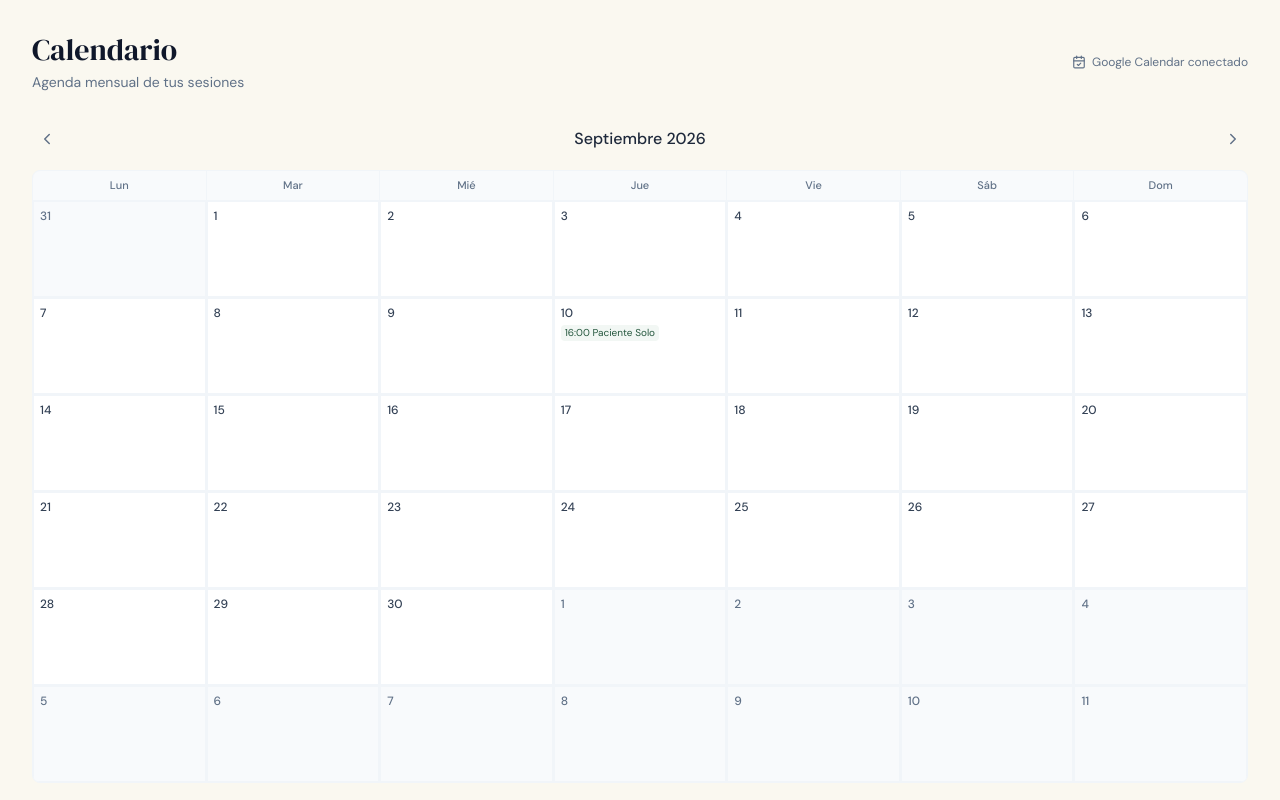
CalendarPage › al cambiar de mes conserva la grilla sin "Cargando calendario..." y bloquea el detalle del día hasta que llegan los datos
This screenshot has width=1280, height=800.
Check: the button with test id "day-cell-2026-09-10" is shown, box [554,298,726,394]
Click the button named "Mes siguiente".
click(1233, 139)  # box [1218,124,1248,154]
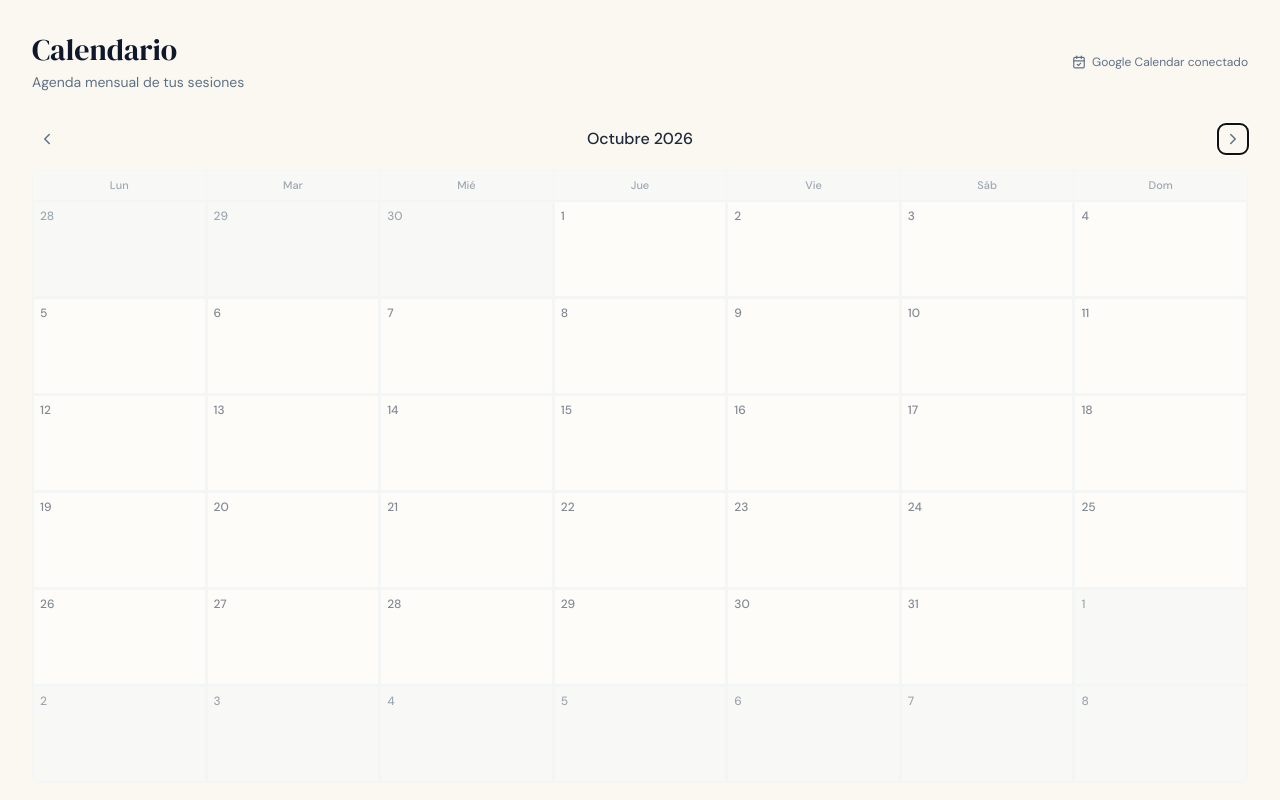
Click the button with test id "day-cell-2026-10-10".
click(987, 346)  # box [901,298,1073,394]
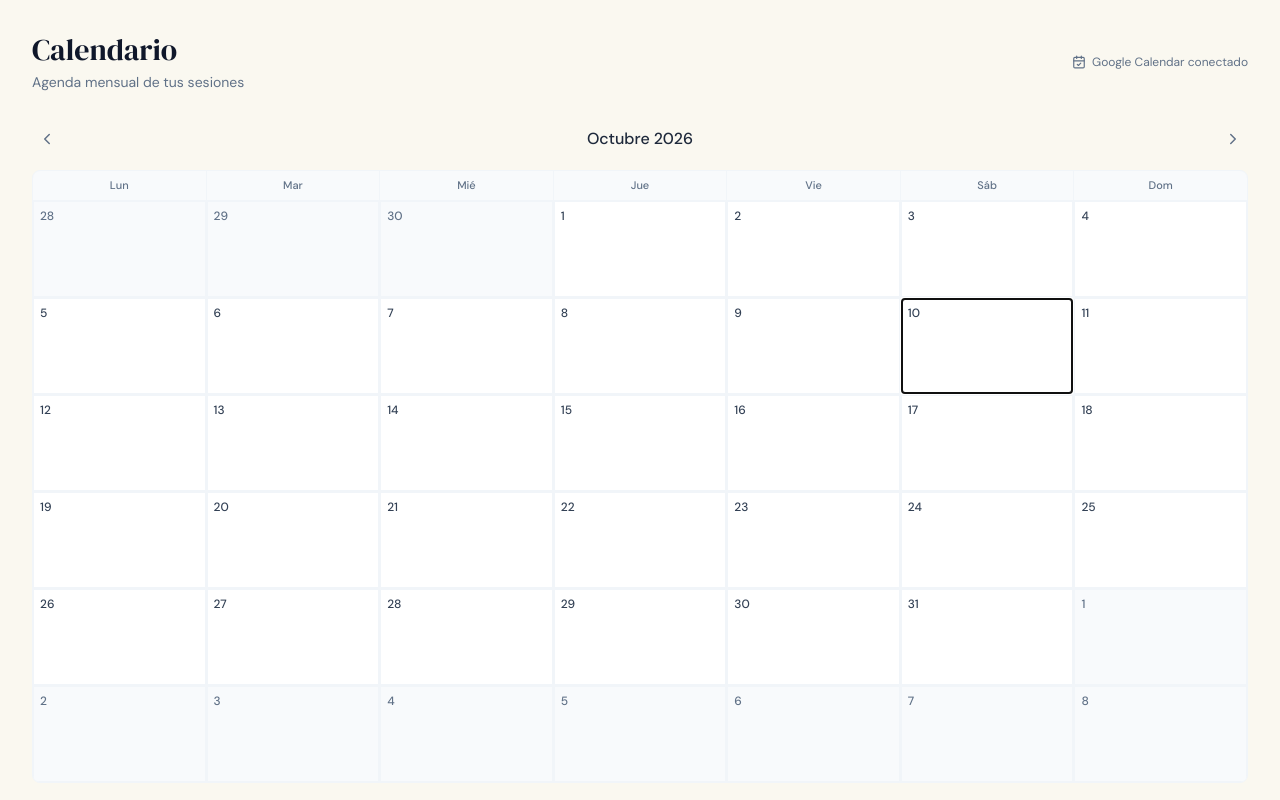
Click the button with test id "day-cell-2026-10-10".
click(987, 346)  # box [901,298,1073,394]
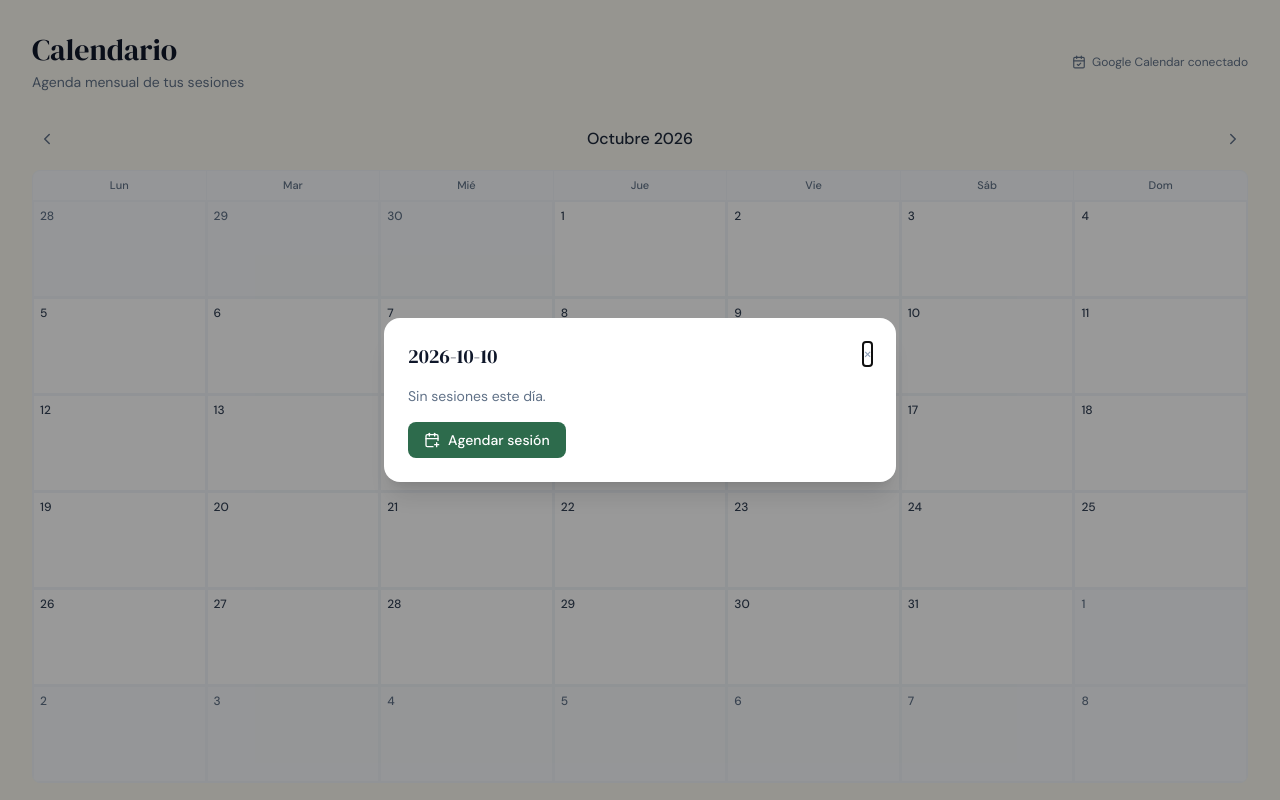
Check: the dialog is shown, box [384,318,896,482]
